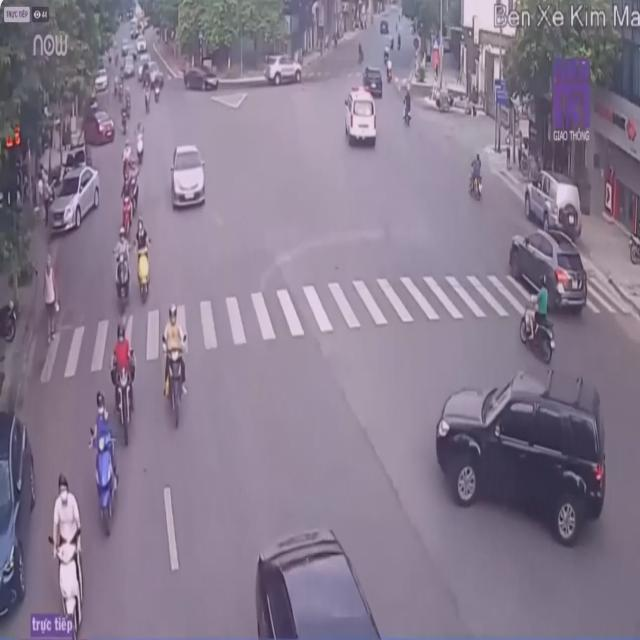car: (437, 367, 611, 549), (248, 524, 401, 638), (0, 410, 38, 632), (506, 228, 589, 320), (523, 166, 581, 236), (49, 160, 100, 230), (170, 143, 207, 212), (344, 87, 377, 150)
motorbike: (47, 477, 89, 640), (89, 395, 121, 530), (160, 302, 188, 423), (518, 282, 556, 366), (111, 324, 132, 440), (133, 216, 153, 301), (112, 229, 132, 303), (466, 149, 484, 204), (120, 177, 132, 234)
